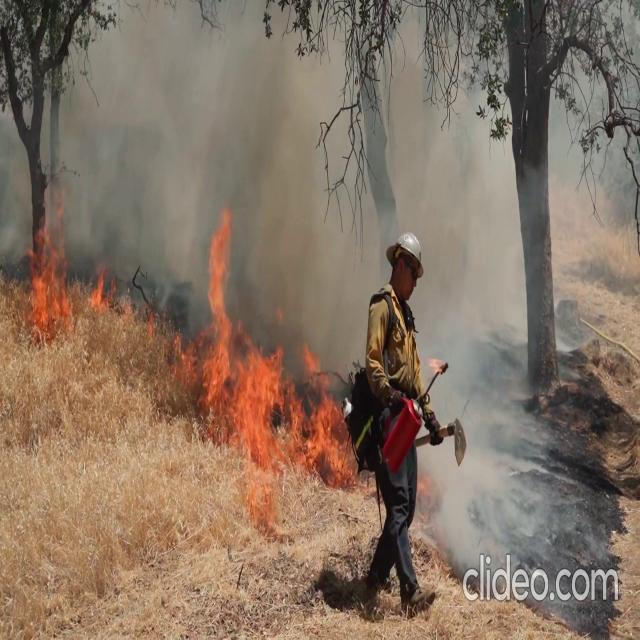Fire: (194, 213, 357, 494), (23, 210, 73, 332), (86, 260, 146, 334)
Smoke: (12, 23, 624, 336), (412, 53, 588, 587)
